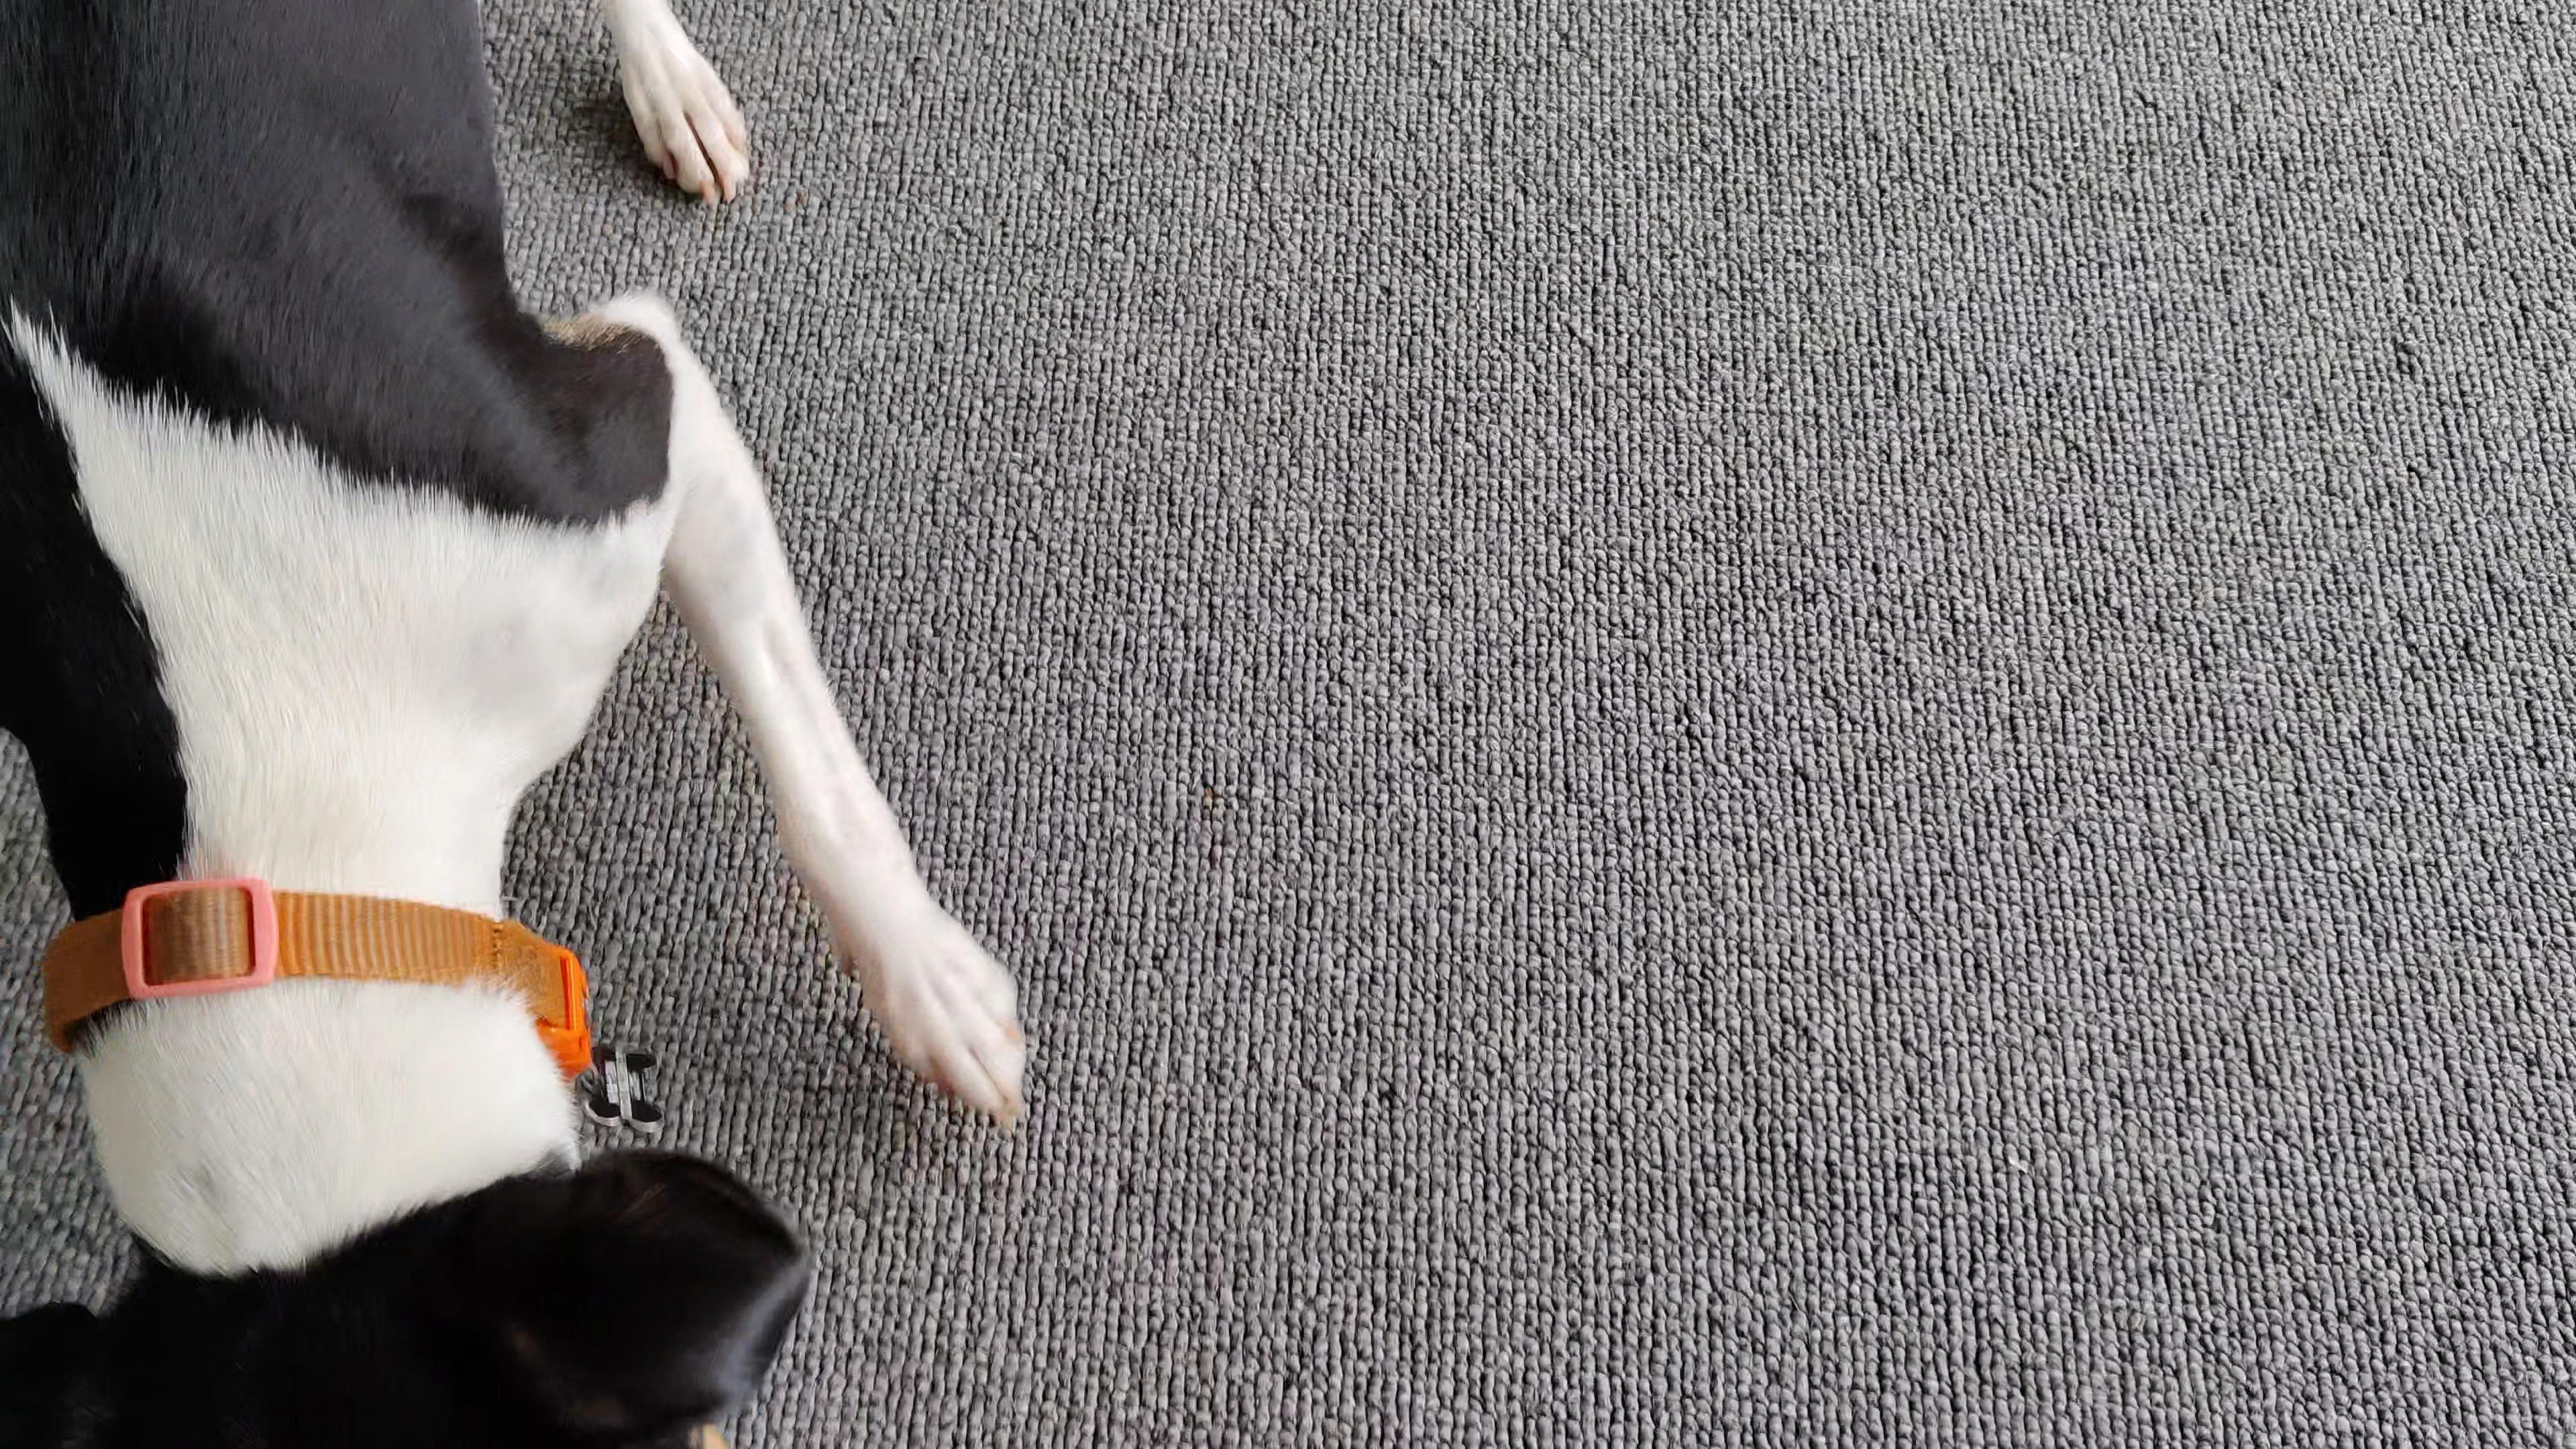Dog: (0, 0, 1063, 1449)
